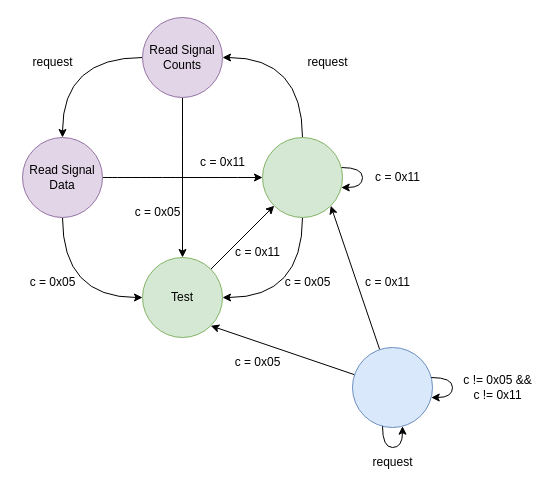
Image size: 559x495. Some labels were removed from this diagram. The shapes that lost their labels are listed below. From the top down, each one's box as (x1, y1, x2, y2) in pixels, then its label:
(262, 136, 342, 218): Scan Request
(352, 346, 432, 428): Start (undefined)
